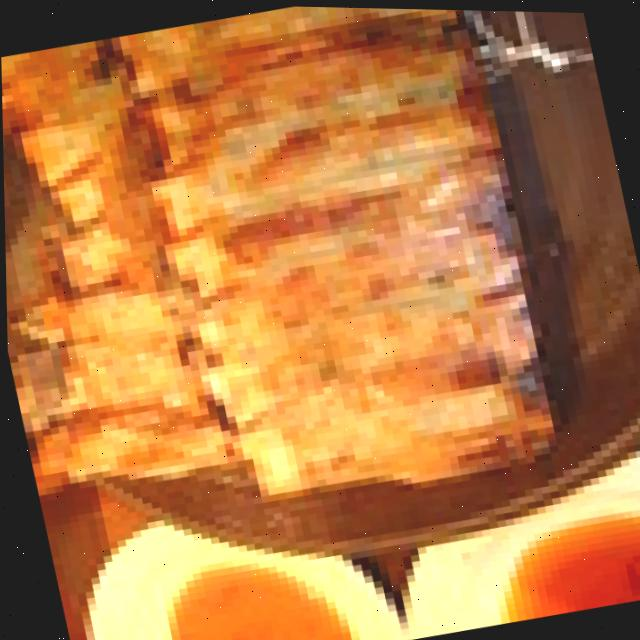带馅早点: (0, 0, 557, 579)
